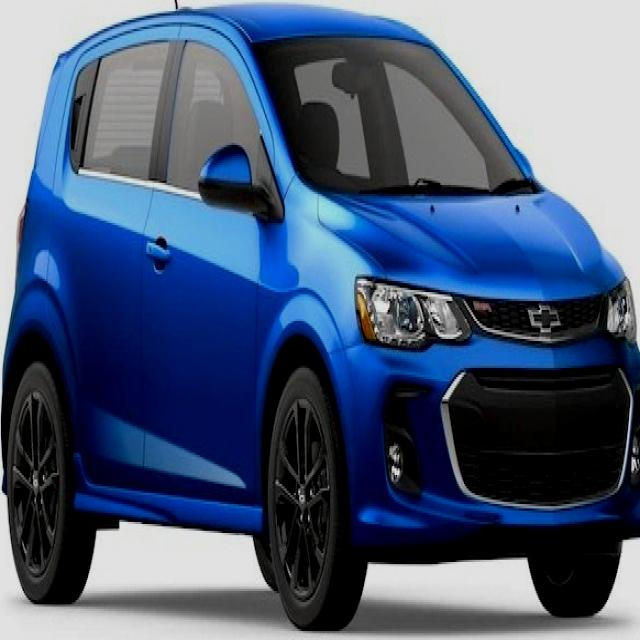blue: (1, 0, 640, 625)
